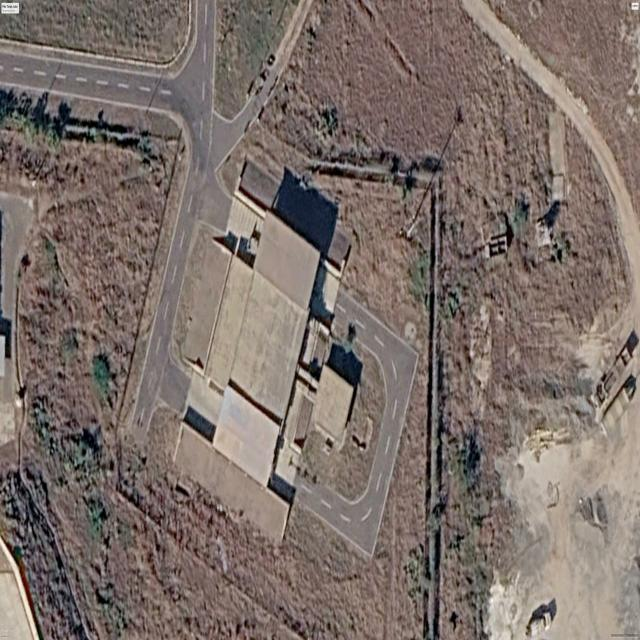Home: (175, 158, 355, 540)
